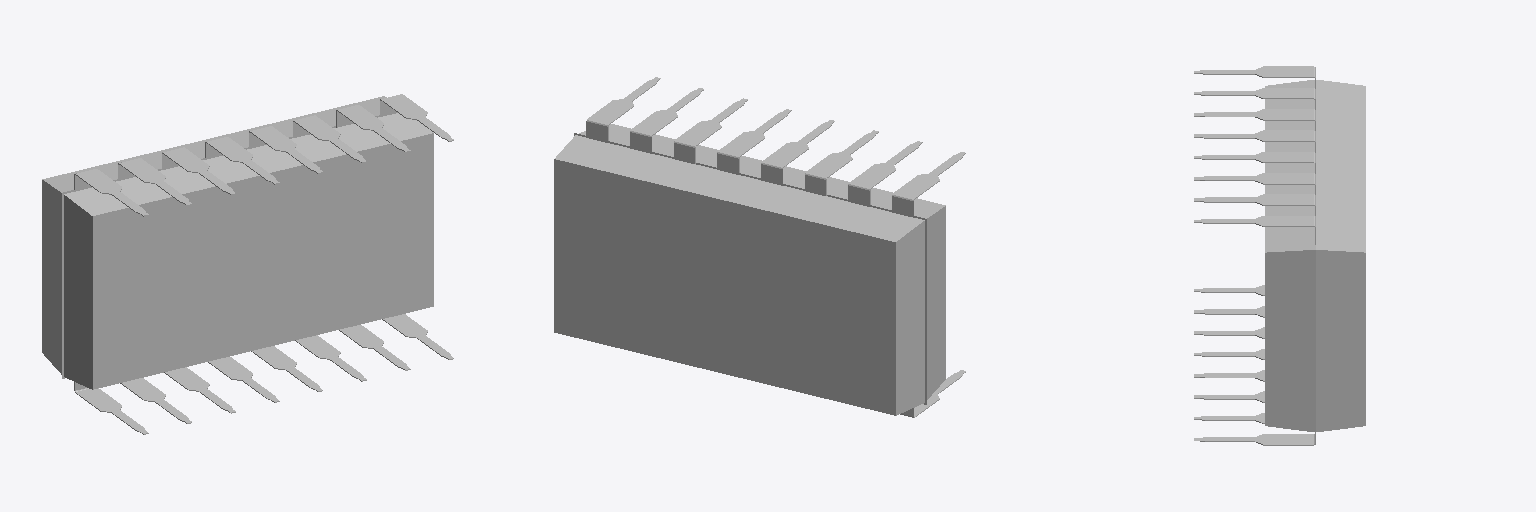
File: chip.obj
3 views of the same model, side by side, from view 1: azimuth 30°, elevation 25°; view 2: azimuth 150°, elevation 25°; view 3: azimuth 270°, elevation 25° (orthographic).
Visible parts, largest first — view 1: Cube; view 2: Cube; view 3: Cube.
Part boxes in pixels (x1,y1,x2,y2): Cube: (42,94,453,434); Cube: (554,77,965,417); Cube: (1194,66,1365,445).
Bounding box in the file's own units: 4.04 × 2.4 × 1.7.